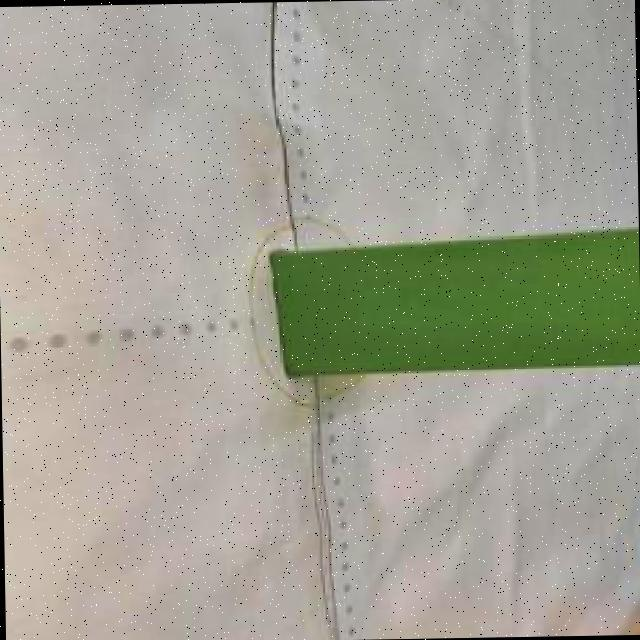greenbox: (274, 223, 640, 380)
